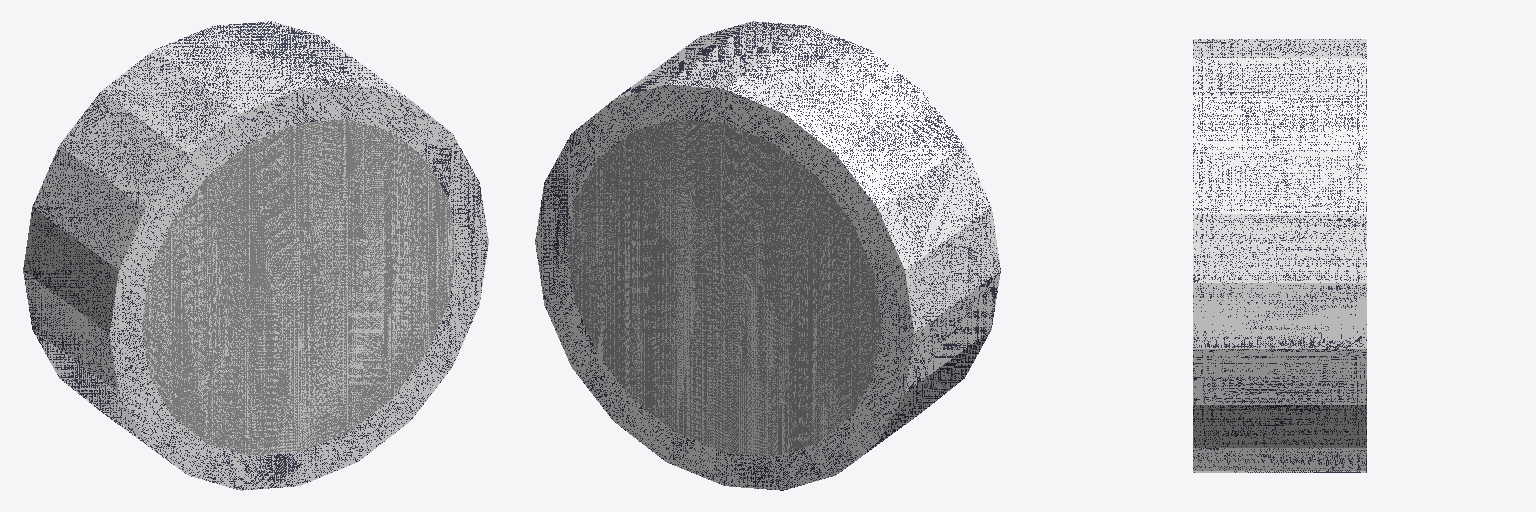
File: original-19.obj
3 renders of one model, left to right at view 1: azimuth 30°, elevation 25°; view 2: azimuth 150°, elevation 25°; view 3: azimuth 270°, elevation 25°, orthographic.
Visible parts, largest first — view 1: Group18/mesh12/mesh12-geometry#mesh12-geometry; view 2: Group18/mesh12/mesh12-geometry#mesh12-geometry; view 3: Group18/mesh12/mesh12-geometry#mesh12-geometry.
Part boxes in pixels (x1,y1,x2,y2): Group18/mesh12/mesh12-geometry#mesh12-geometry: (23,21,488,490); Group18/mesh12/mesh12-geometry#mesh12-geometry: (535,21,1000,490); Group18/mesh12/mesh12-geometry#mesh12-geometry: (1193,39,1366,472).
Bounding box in the file's own units: 0.0775 × 0.0775 × 0.0307.